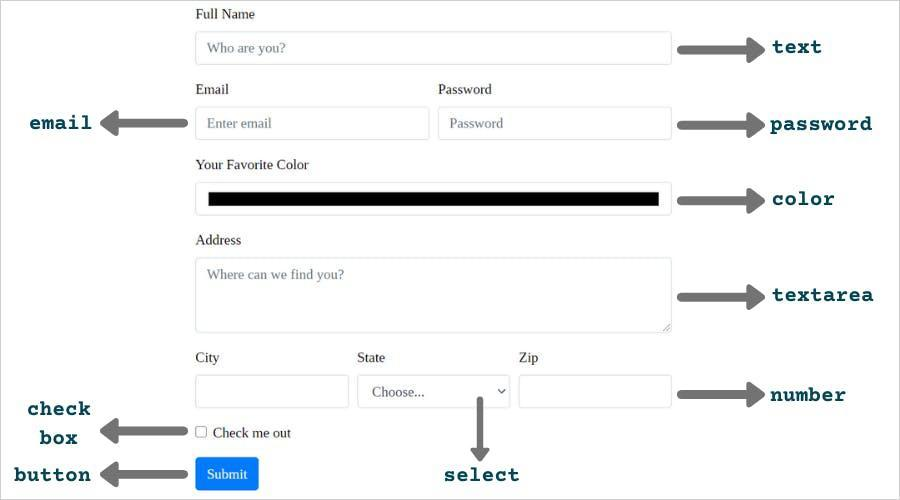button: (197, 459, 259, 490)
checkbox: (195, 428, 206, 439)
dropdown: (358, 375, 512, 411)
input: (197, 259, 672, 335), (197, 34, 671, 67), (196, 186, 673, 214), (196, 109, 430, 141), (439, 109, 674, 140), (197, 375, 349, 411), (518, 377, 673, 410)
label: (191, 158, 315, 172), (211, 427, 293, 443), (195, 5, 256, 23), (438, 81, 496, 98), (195, 234, 250, 251), (196, 81, 236, 100), (357, 352, 388, 369), (194, 352, 223, 369), (518, 349, 541, 369)
